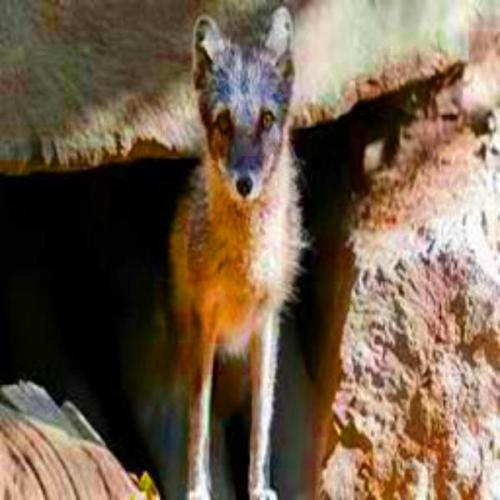arctic_fox-endangered: (167, 8, 305, 500)
